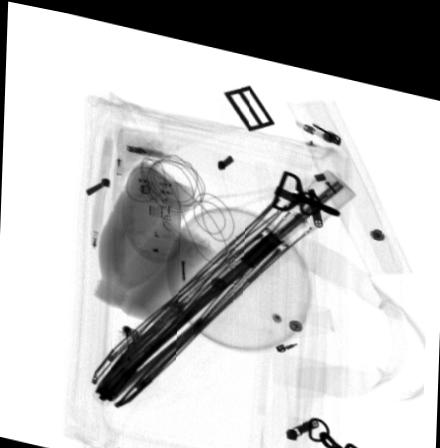Lighter: (121, 318, 146, 383)
